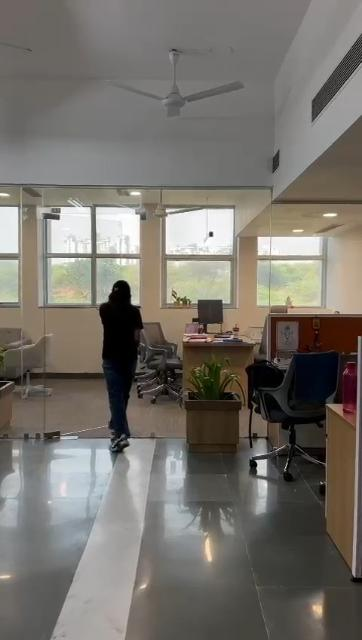floor: (0, 432, 360, 639)
moving-obj: (102, 244, 174, 450)
object: (227, 338, 343, 496), (186, 355, 247, 469), (140, 318, 184, 402), (5, 333, 53, 395), (195, 296, 237, 342), (0, 322, 12, 443)
wall: (45, 307, 106, 379), (324, 226, 362, 314), (21, 208, 45, 328), (240, 202, 254, 332), (148, 216, 162, 312)
